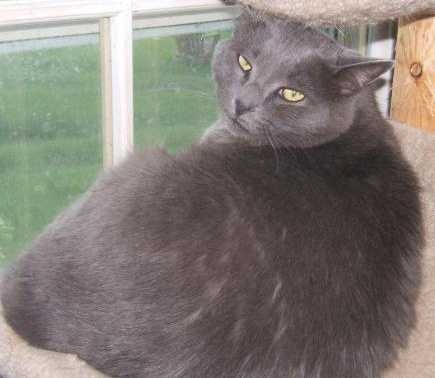Cat: (1, 14, 416, 377)
